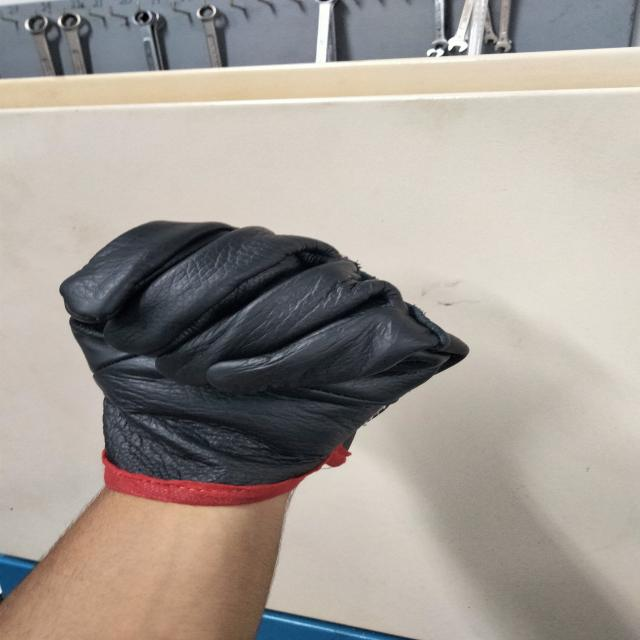Gloves: (44, 211, 479, 503)
